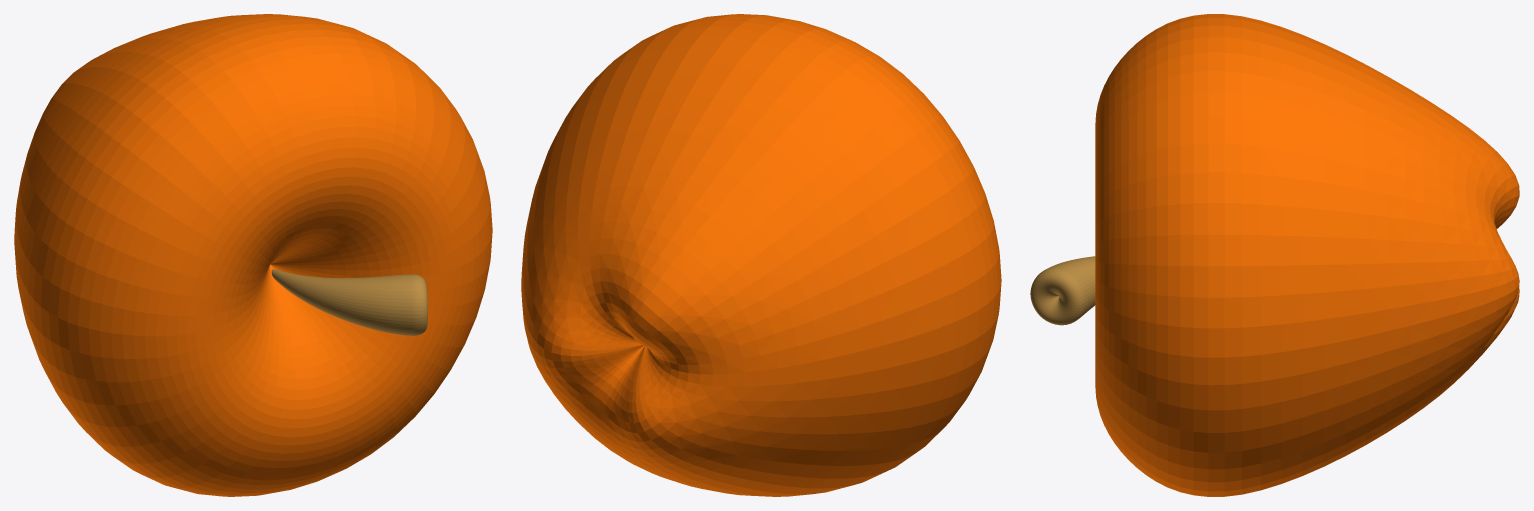
File: apple2.glb
3 views of the same model, side by side, from view 1: azimuth 30°, elevation 25°; view 2: azimuth 150°, elevation 25°; view 3: azimuth 270°, elevation 25° (orthographic). The views are drawn at different scales.
Parts seen in each view (by area): view 1: mesh03_mesh03.001; view 2: mesh03_mesh03.001; view 3: mesh03_mesh03.001.
Boxes of the visible parts, x1,y1,x2,y2 form: mesh03_mesh03.001: (14, 14, 492, 496); mesh03_mesh03.001: (521, 14, 1001, 496); mesh03_mesh03.001: (1030, 14, 1519, 496).
Bounding box in the file's own units: 55.41 × 55.16 × 56.01.
